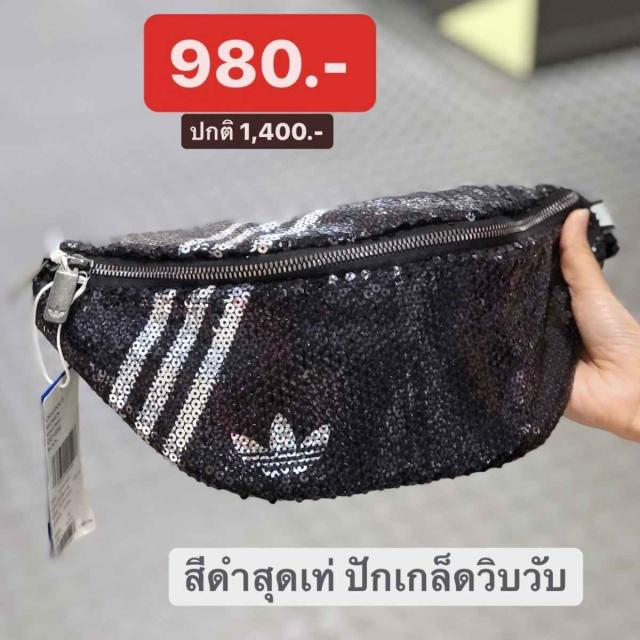Handbag: (33, 170, 617, 498)
